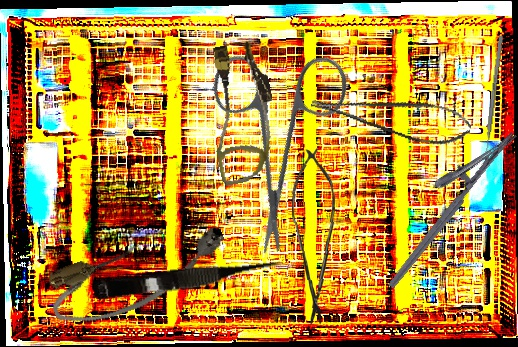Cannula: (41, 214, 237, 335), (196, 38, 288, 187)
Iris Scissors: (150, 6, 406, 260)
Micro Scissor: (309, 69, 475, 157), (93, 253, 285, 306), (289, 147, 340, 326)
Needle Holder: (366, 114, 518, 290)
Pusher: (482, 35, 504, 164)
